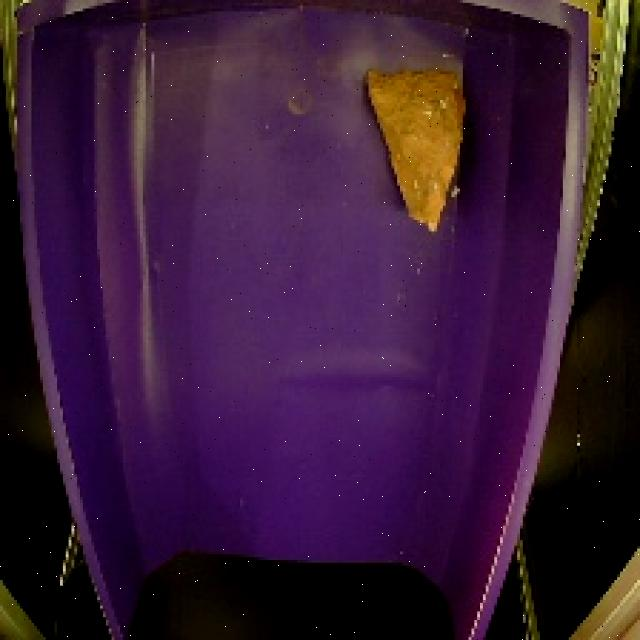brick: (357, 63, 477, 245)
